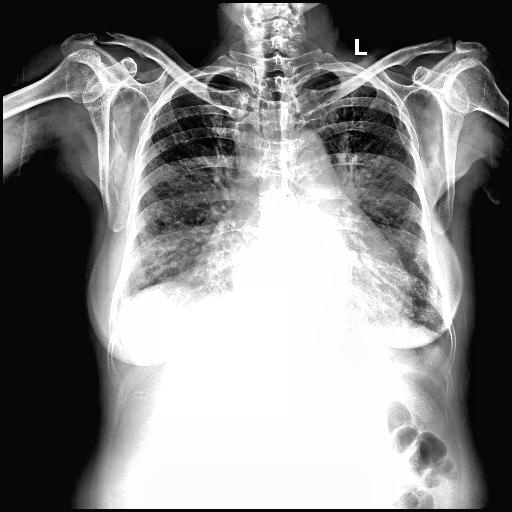0- Aortic enlargement: (280, 124, 332, 175)
3- Cardiomegaly: (200, 218, 411, 314), (196, 242, 416, 315), (196, 252, 418, 320)
7- Lung Opacity: (348, 168, 437, 308), (126, 180, 231, 295)
